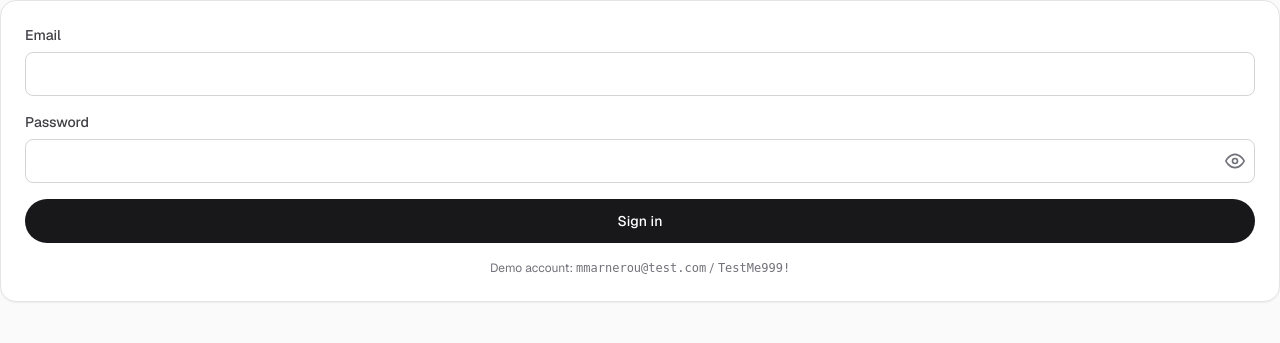
Scenario: LoginForm › rejects an email address that is not valid
This screenshot has width=1280, height=343.
Type "not-an-email" into the field labelled "Email" at [640, 74], box [25,52,1255,96]
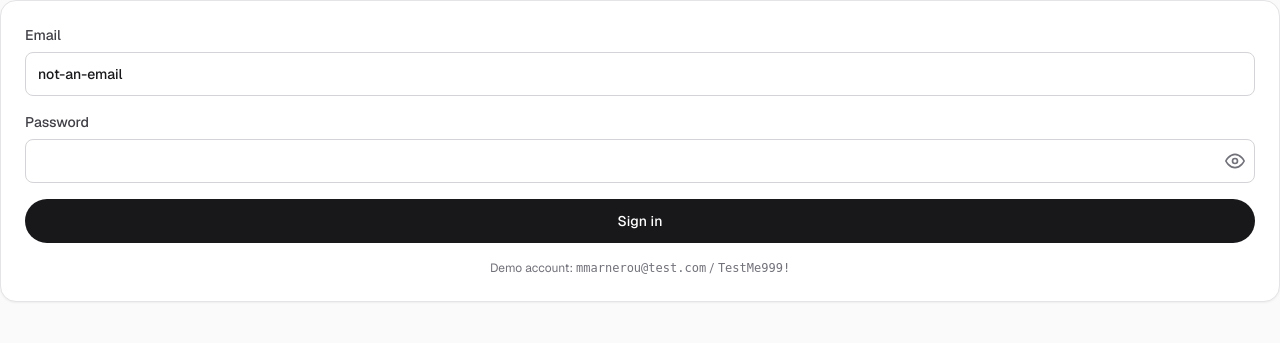
Type "secret" into the password field labelled "Password" at [640, 161], box [25,139,1255,183]
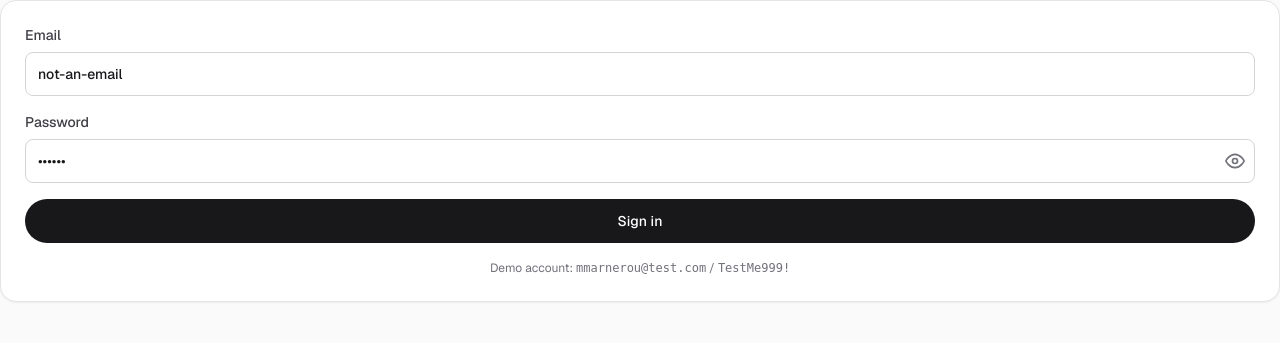
Click the button "Sign in" at [640, 221], box [25,199,1255,243]
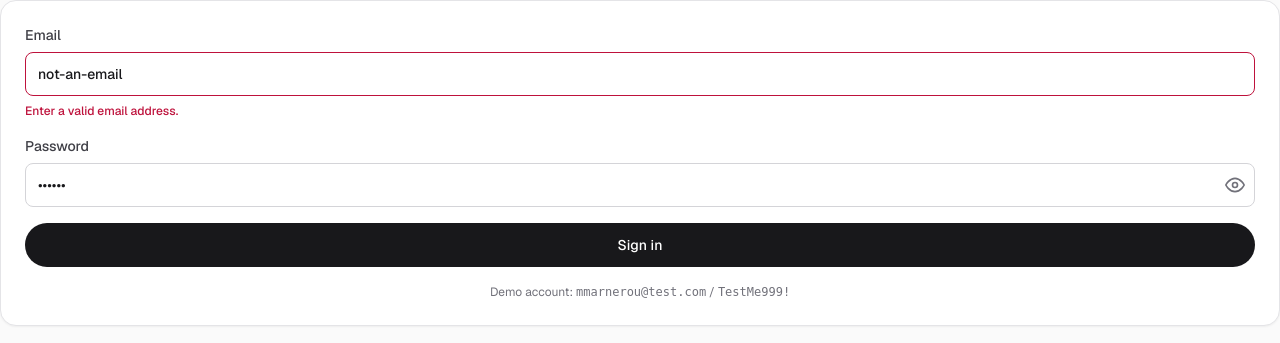
Now the text "Enter a valid email address." is shown, box [25,103,178,119]
